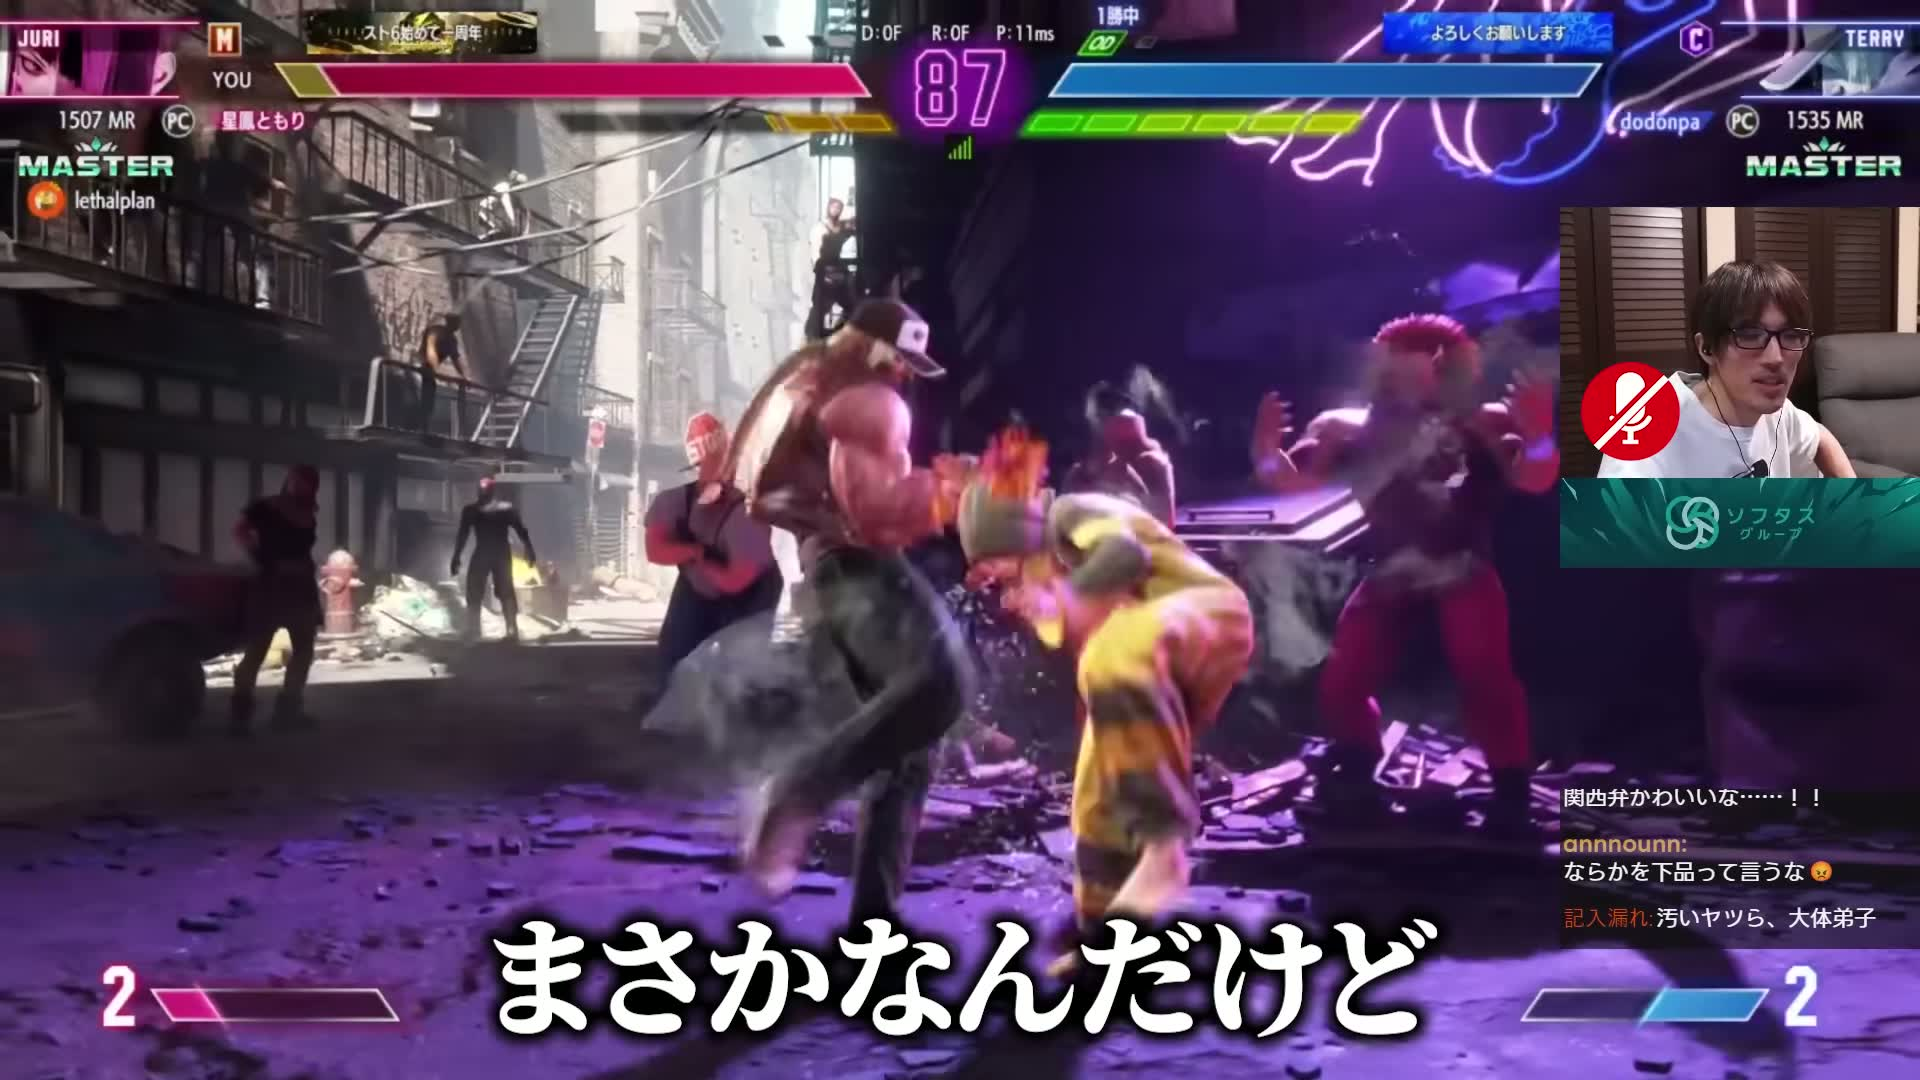stream_tag: (1567, 208, 1920, 469)
